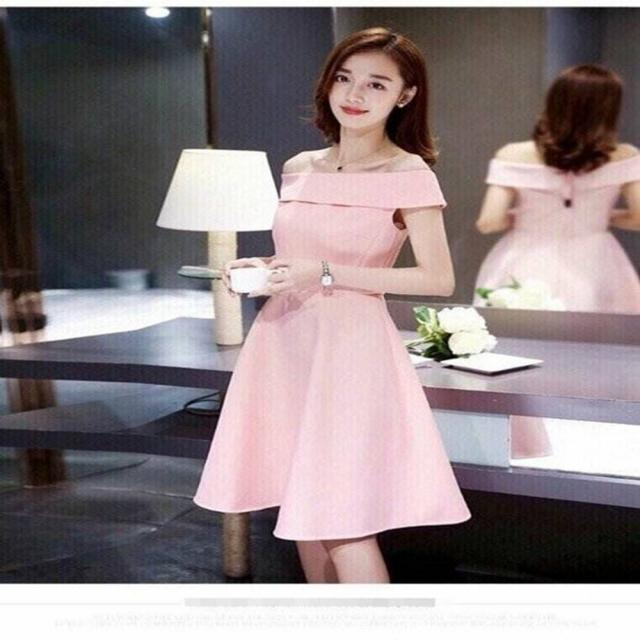clothes: (191, 146, 471, 544)
